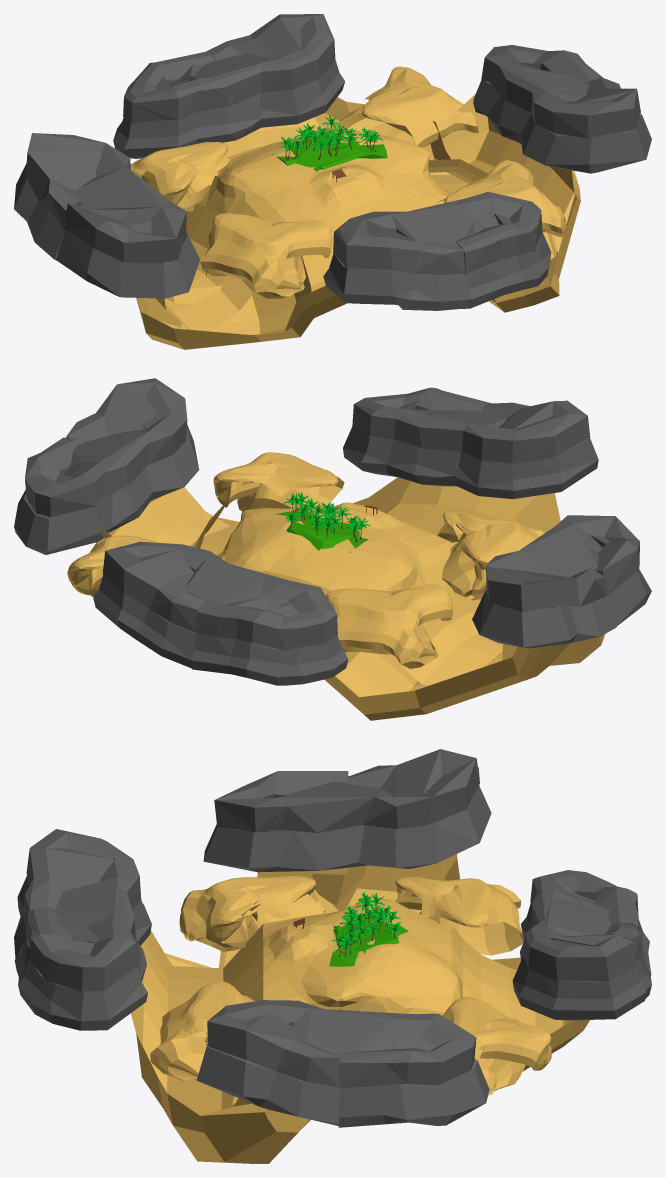
The model's file is SuperIsle.fbx.
3 renders of one model, top to bottom at view 1: azimuth 30°, elevation 25°; view 2: azimuth 150°, elevation 25°; view 3: azimuth 270°, elevation 25°, orthographic. The views are drawn at different scales.
Visible parts, largest first — view 1: isle; view 2: isle; view 3: isle.
Boxes of the visible parts, x1,y1,x2,y2 form: isle: (14,14,651,349); isle: (14,378,651,720); isle: (14,749,651,1163).
Bounding box in the file's own units: 8535 × 2507 × 7573.
